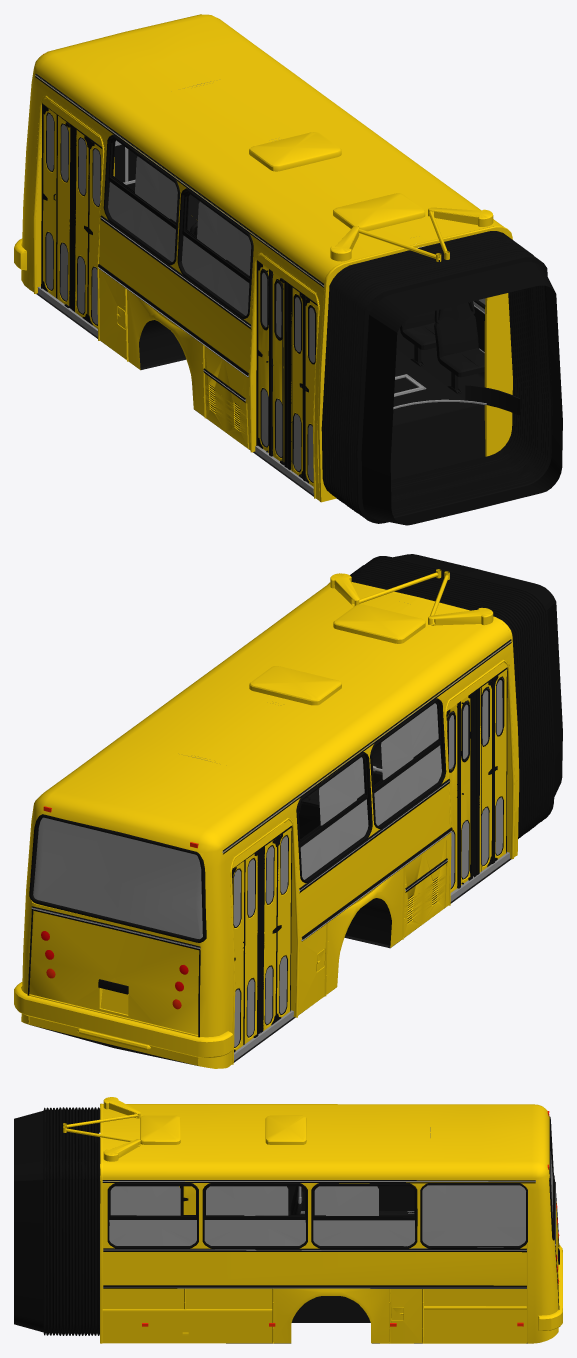
Rendered from BusTrailer.FBX.
3 views of the same model, one above another, from view 1: azimuth 30°, elevation 25°; view 2: azimuth 150°, elevation 25°; view 3: azimuth 270°, elevation 25° (orthographic). The views are drawn at different scales.
Parts seen in each view (by area): view 1: Body, Connector, Interior, Windows, Buttom, Rubber, Rear Door 2, Rear Door 1, Front Door 1, Front Door 2; view 2: Body, Windows, Connector, Rubber, Rear Door 1, Rear Door 2, Front Door 1, Rear Bumper, Front Door 2, Buttom, Interior; view 3: Body, Windows, Connector, Rubber, Buttom, Interior, Rear Bumper, Front Door 2.
Boxes of the visible parts, x1,y1,x2,y2 form: Body: (21,14,512,502); Connector: (321,231,562,525); Interior: (37,81,520,494); Windows: (108,156,485,337); Buttom: (36,293,485,496); Rubber: (103,134,485,481); Rear Door 2: (41,103,73,308); Rear Door 1: (71,126,102,328); Front Door 1: (290,284,317,486); Front Door 2: (256,260,284,465); Body: (21,569,519,1068); Windows: (33,703,468,939); Connector: (350,554,562,838); Rubber: (29,676,503,942); Rear Door 1: (260,826,292,1033); Rear Door 2: (232,848,260,1052); Front Door 1: (479,667,507,872); Rear Bumper: (14,982,233,1057); Front Door 2: (446,692,473,892); Buttom: (29,858,511,1065); Interior: (188,756,509,1060); Body: (63,1097,559,1343); Windows: (109,1151,552,1247); Connector: (14,1107,100,1335); Rubber: (107,1116,554,1248); Buttom: (226,1296,527,1343); Interior: (287,1127,430,1296); Rear Bumper: (538,1245,562,1330); Front Door 2: (179,1186,195,1214).
Size of the model in its own units: 2.87 by 3.17 by 8.56.
